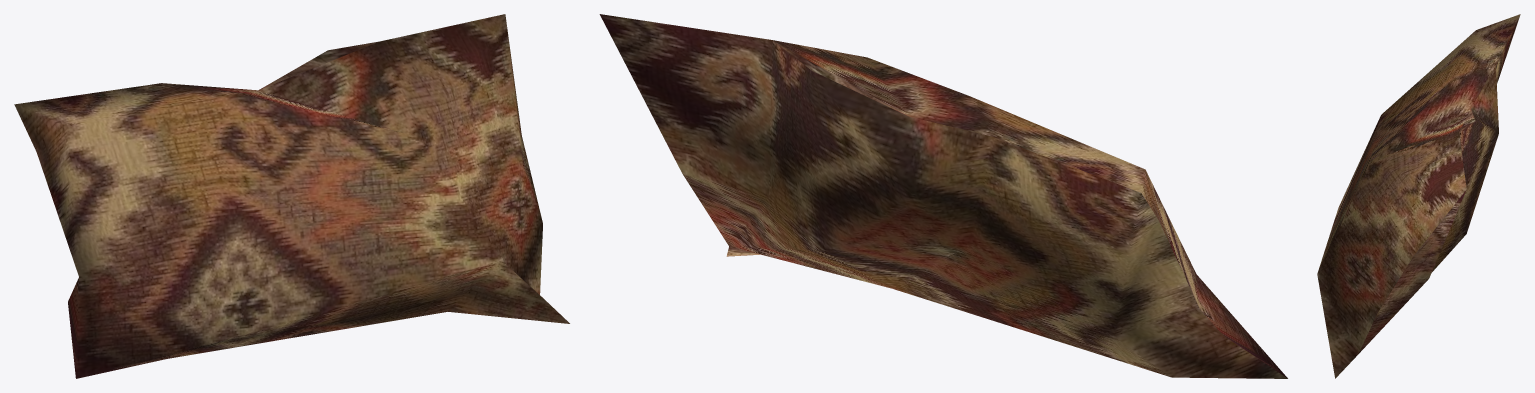
The model's file is cushion.004.fbx.
3 renders of one model, left to right at view 1: azimuth 30°, elevation 25°; view 2: azimuth 150°, elevation 25°; view 3: azimuth 270°, elevation 25°, orthographic. The views are drawn at different scales.
Parts seen in each view (by area): view 1: cushion.004; view 2: cushion.004; view 3: cushion.004.
Part boxes in pixels (<box>): cushion.004: <box>14,14,569,378</box>; cushion.004: <box>599,14,1287,378</box>; cushion.004: <box>1317,14,1520,378</box>.
Bounding box in the file's own units: 52.92 × 26.49 × 24.13.
1 material, 1 textured.
